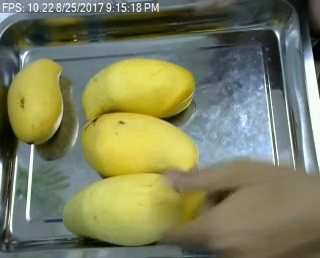Mango: (64, 169, 186, 247), (81, 112, 200, 180), (81, 55, 196, 118), (8, 56, 66, 144)
